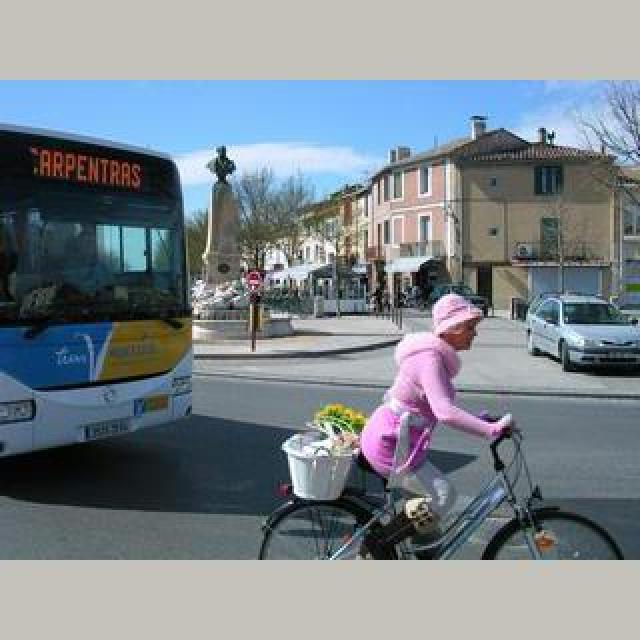Bolan-Bike: (2, 128, 196, 458)
Bus-Bike: (526, 294, 640, 374), (614, 292, 640, 324)
MC-Bike: (358, 290, 510, 540)
Person: (262, 418, 626, 560)
